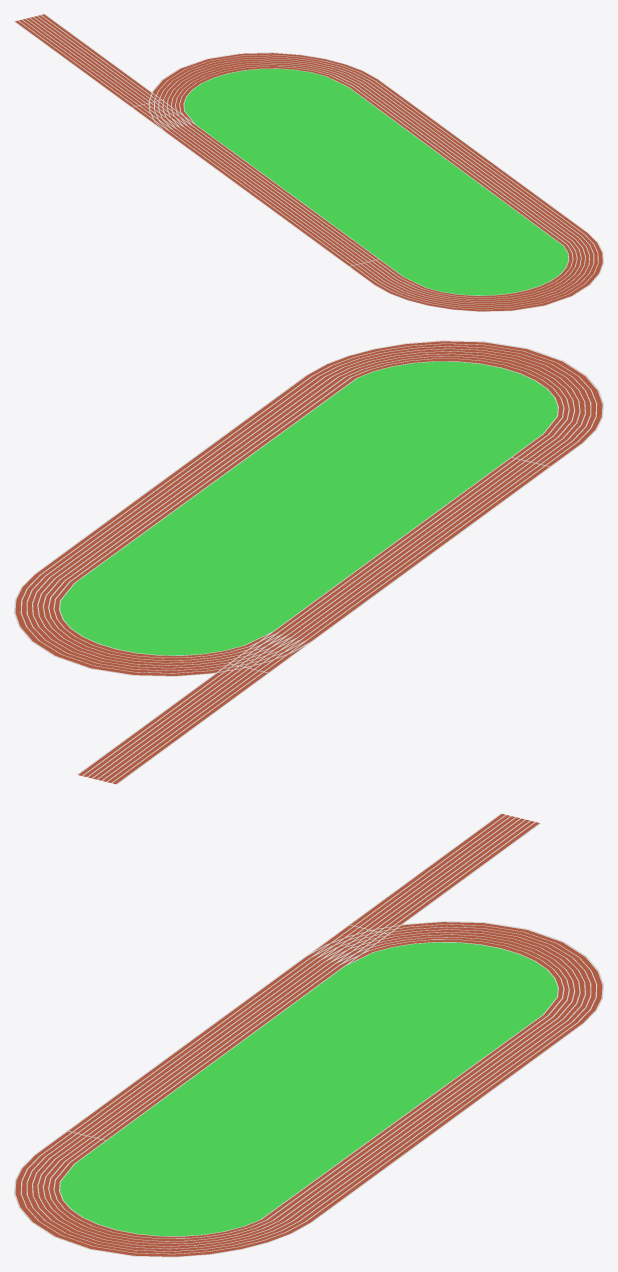
Rendered from Race Track3.fbx.
3 views of the same model, one above another, from view 1: azimuth 30°, elevation 25°; view 2: azimuth 150°, elevation 25°; view 3: azimuth 330°, elevation 25° (orthographic). The views are drawn at different scales.
Parts seen in each view (by area): view 1: Track, CurveLine, StraightLine; view 2: Track, CurveLine, StraightLine; view 3: Track, CurveLine, StraightLine.
Part boxes in pixels (bbox=[...]): Track: bbox=[15, 14, 602, 311]; CurveLine: bbox=[148, 52, 603, 311]; StraightLine: bbox=[14, 14, 194, 130]; Track: bbox=[15, 341, 602, 784]; CurveLine: bbox=[14, 340, 603, 676]; StraightLine: bbox=[77, 632, 309, 784]; Track: bbox=[15, 814, 602, 1256]; CurveLine: bbox=[14, 921, 603, 1257]; StraightLine: bbox=[308, 813, 540, 964].
Size of the model in its own units: 5694 by 5.48 by 19516.
